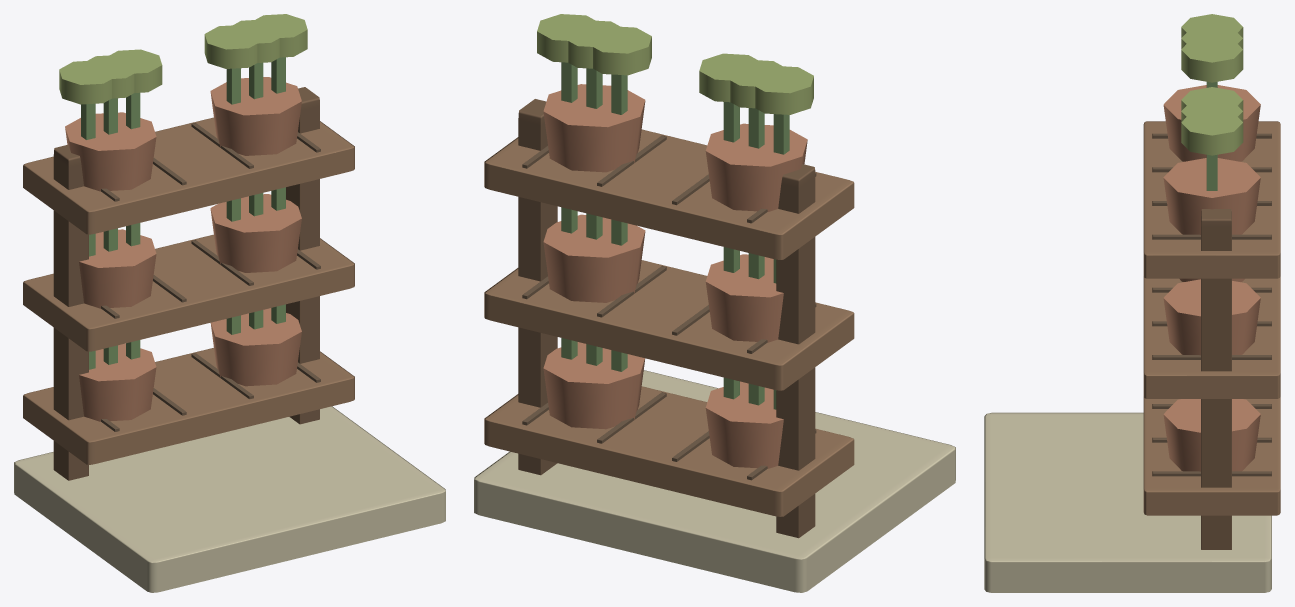
The model's file is herbshelf-0.glb.
3 renders of one model, left to right at view 1: azimuth 30°, elevation 25°; view 2: azimuth 150°, elevation 25°; view 3: azimuth 270°, elevation 25°, orthographic. The views are drawn at different scales.
Parts seen in each view (by area): view 1: herbshelf-0-0; view 2: herbshelf-0-0; view 3: herbshelf-0-0.
Boxes of the visible parts, bbox=[...] form: herbshelf-0-0: bbox=[14, 14, 445, 592]; herbshelf-0-0: bbox=[474, 14, 955, 592]; herbshelf-0-0: bbox=[984, 14, 1280, 592].
Size of the model in its own units: 0.8 by 1.1 by 0.67.
